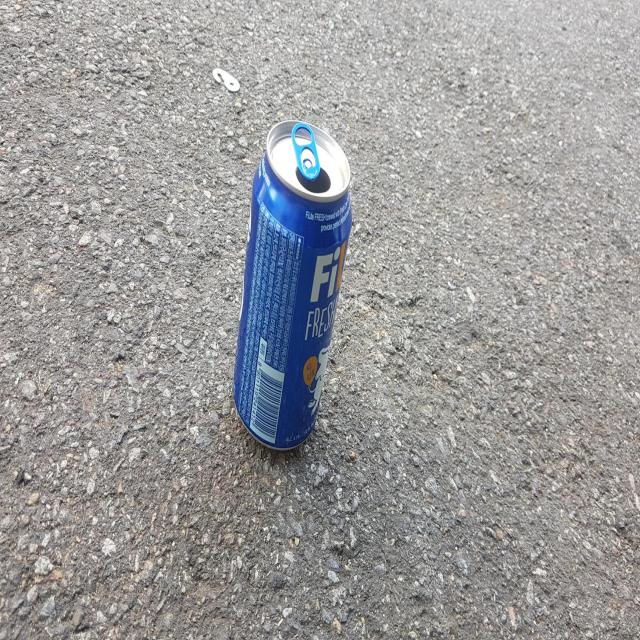can: (233, 119, 352, 449)
